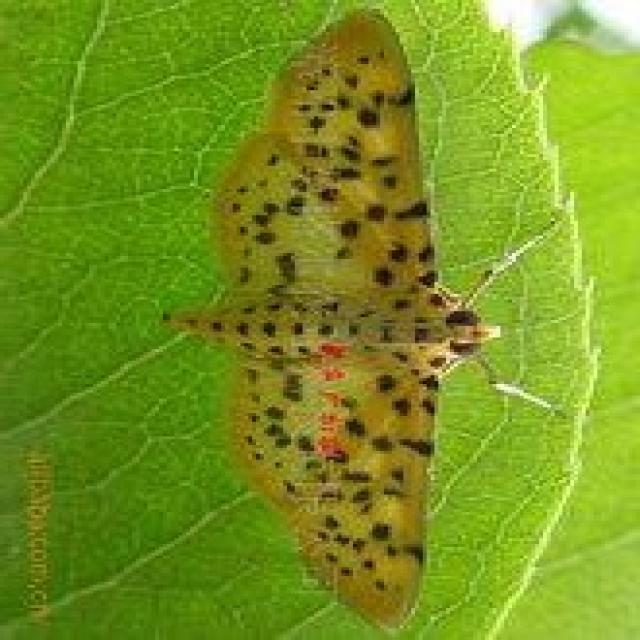peach borer: (160, 10, 509, 632)
